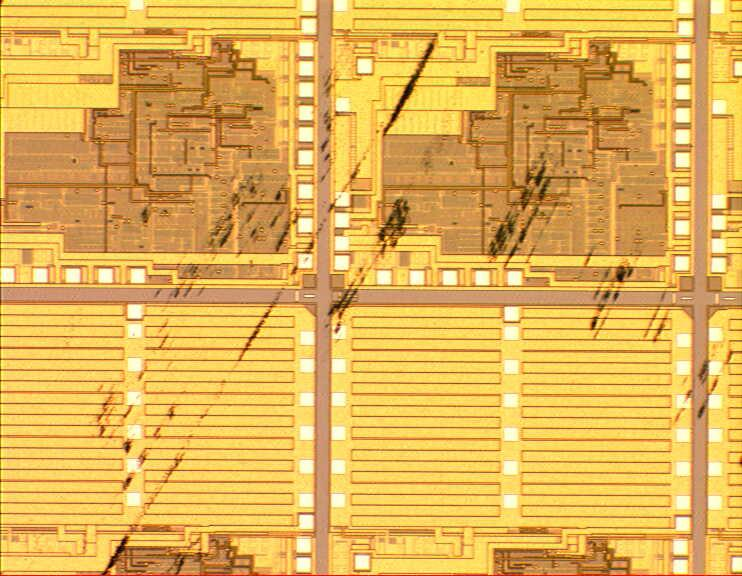SCRATCH: (80, 24, 742, 576)
